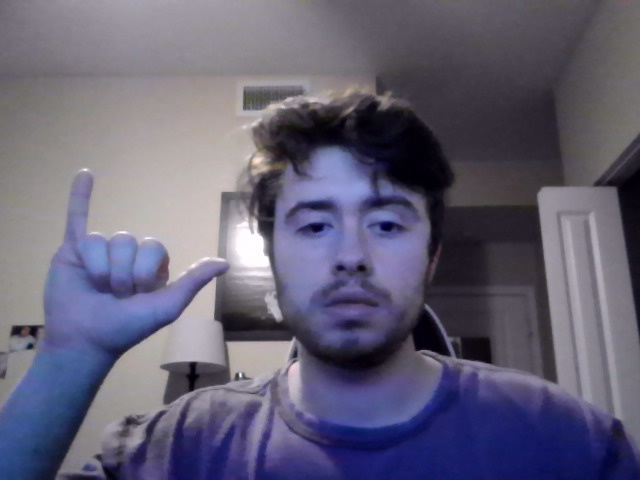y: (42, 168, 230, 379)
